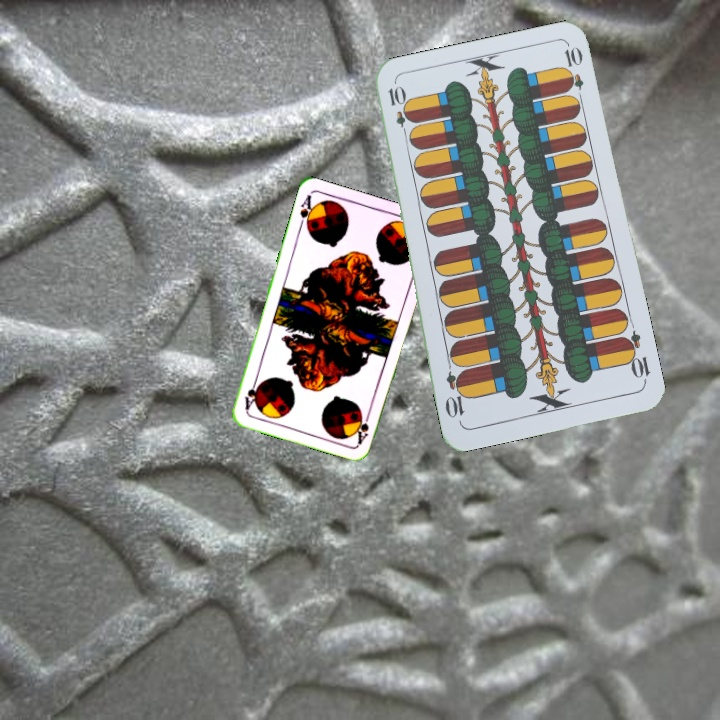E10: (618, 327, 654, 386), (384, 82, 412, 141)
SA: (295, 191, 318, 233), (353, 406, 374, 446)
